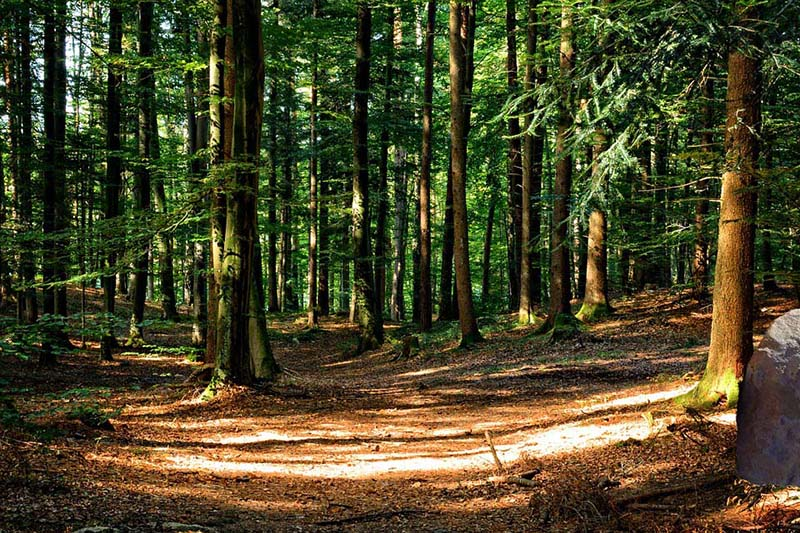Rocks: (728, 303, 800, 500)
